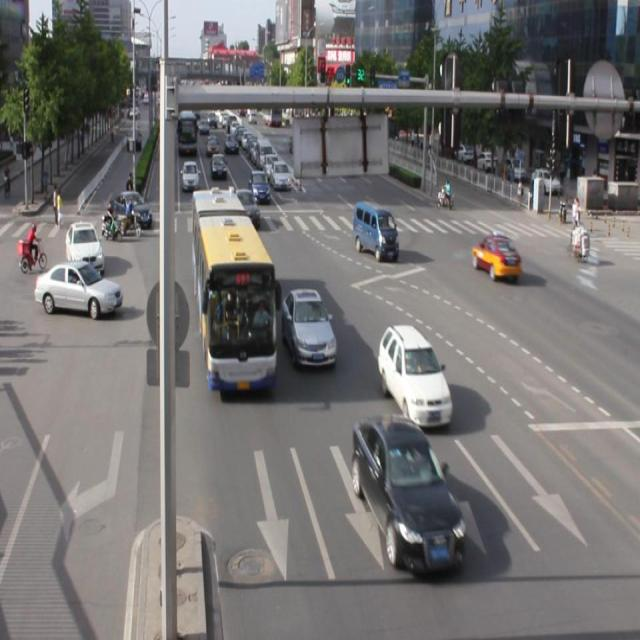car: (352, 414, 464, 572), (378, 324, 451, 426), (282, 287, 337, 367), (471, 233, 521, 280)
truck: (352, 201, 398, 261)
van: (192, 191, 276, 391)
